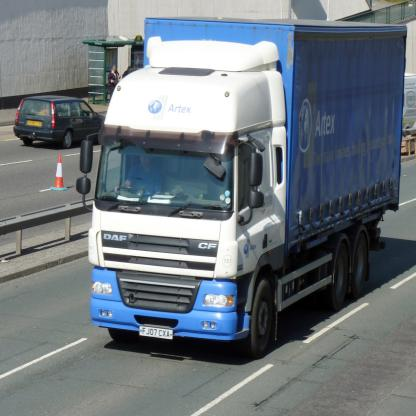Car: (12, 95, 106, 146)
Truck: (88, 27, 386, 367)
